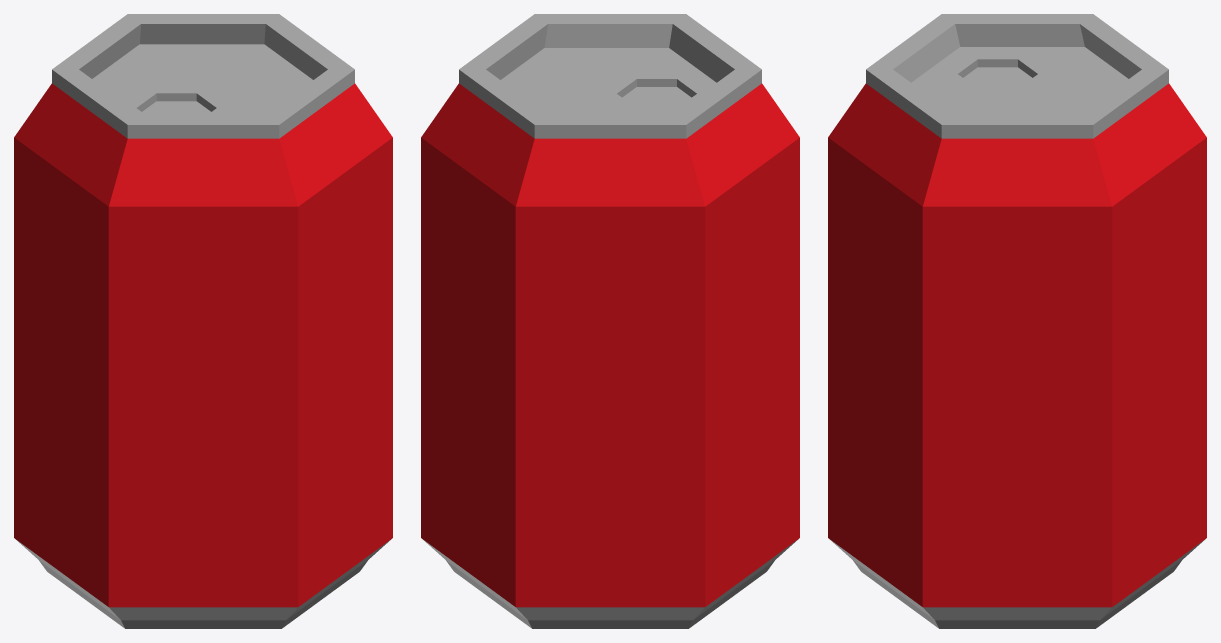
The model's file is Soda Red.fbx.
The picture shows the model from 3 angles, left to right: view 1: azimuth 30°, elevation 25°; view 2: azimuth 150°, elevation 25°; view 3: azimuth 270°, elevation 25°; orthographic projection.
Parts seen in each view (by area): view 1: Soda Red; view 2: Soda Red; view 3: Soda Red.
Part boxes in pixels (x1=…): Soda Red: x1=14, y1=14, x2=392, y2=628; Soda Red: x1=421, y1=14, x2=799, y2=628; Soda Red: x1=828, y1=14, x2=1206, y2=628.
Bounding box in the file's own units: 11.99 × 13.85 × 20.25.
